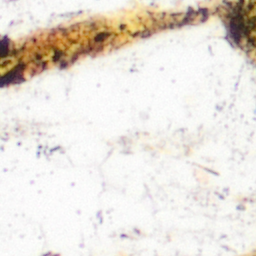cement_matrix: (226, 0, 255, 48), (0, 39, 26, 84), (50, 49, 67, 63), (91, 32, 106, 46), (33, 54, 42, 63)
cracks: (0, 0, 255, 88), (49, 48, 68, 64), (90, 31, 107, 47), (32, 53, 43, 64), (0, 62, 12, 70), (250, 0, 255, 2), (251, 254, 255, 255)
gravel_crushed_stones: (0, 17, 255, 255), (0, 0, 220, 39)
